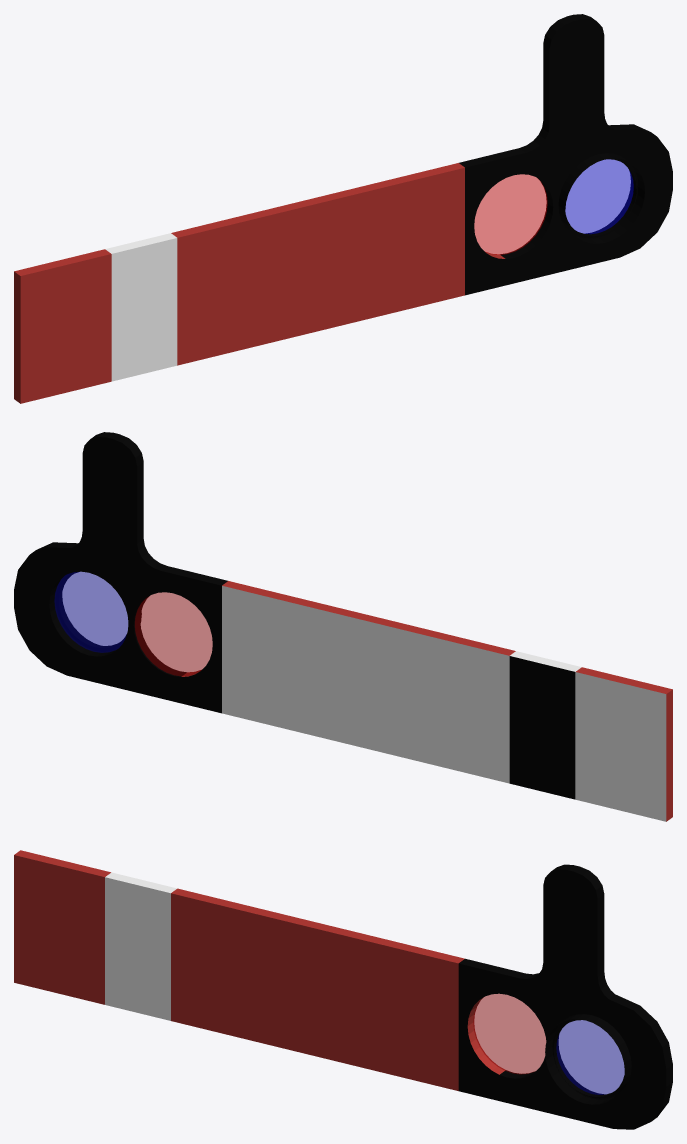
File: semaphore-arm.glb
3 renders of one model, top to bottom at view 1: azimuth 30°, elevation 25°; view 2: azimuth 150°, elevation 25°; view 3: azimuth 330°, elevation 25°, orthographic.
Parts seen in each view (by area): view 1: Arm, red aspect, green aspect, lens ring thing; view 2: Arm, red aspect, green aspect, lens ring thing; view 3: Arm, red aspect, green aspect, lens ring thing.
Part boxes in pixels (x1=…): Arm: x1=14, y1=14, x2=672, y2=403; red aspect: x1=474, y1=174, x2=547, y2=254; green aspect: x1=565, y1=159, x2=633, y2=234; lens ring thing: x1=558, y1=153, x2=644, y2=243; Arm: x1=14, y1=432, x2=672, y2=821; red aspect: x1=135, y1=592, x2=212, y2=676; green aspect: x1=54, y1=571, x2=128, y2=652; lens ring thing: x1=55, y1=571, x2=141, y2=651; Arm: x1=14, y1=850, x2=672, y2=1129; red aspect: x1=473, y1=993, x2=546, y2=1074; green aspect: x1=556, y1=1020, x2=624, y2=1094; lens ring thing: x1=545, y1=1014, x2=631, y2=1104.
Size of the model in its own units: 1.19 by 0.4327 by 0.0424.
